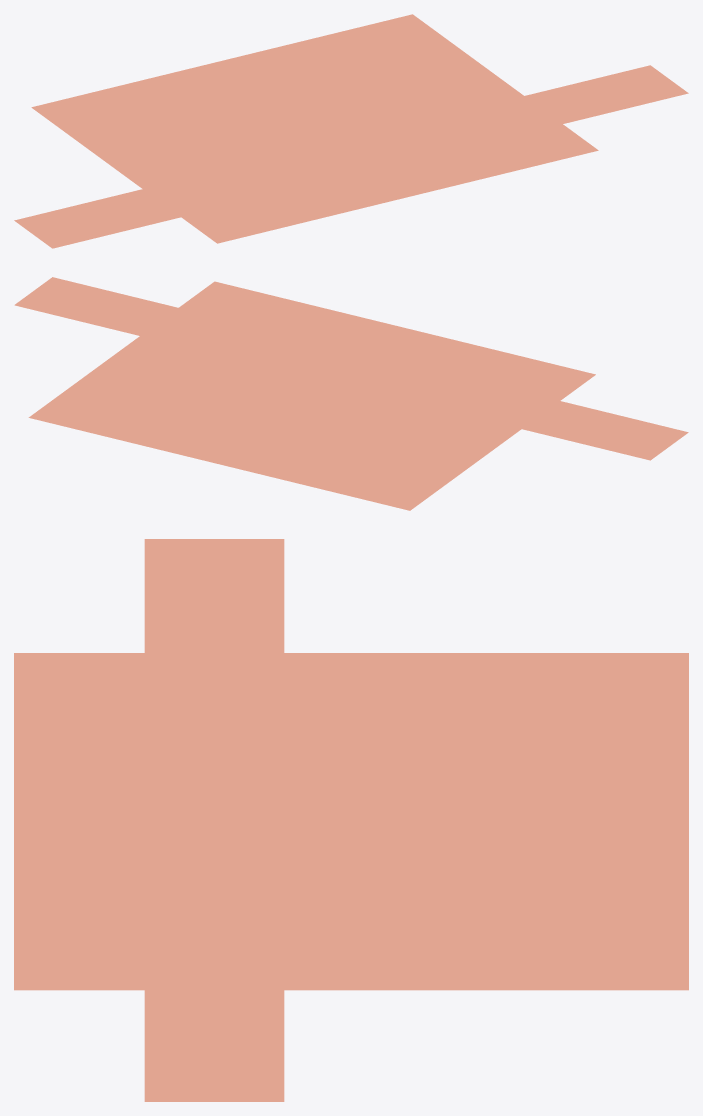
File: Open Dag Map Building Bridge.fbx
3 renders of one model, top to bottom at view 1: azimuth 30°, elevation 25°; view 2: azimuth 150°, elevation 25°; view 3: azimuth 270°, elevation 25°, orthographic. The views are drawn at different scales.
Visible parts, largest first — view 1: Bridge; view 2: Bridge; view 3: Bridge.
Part boxes in pixels (box(x1,y1,x2,y2)): Bridge: box(14, 14, 688, 248); Bridge: box(14, 277, 688, 510); Bridge: box(14, 539, 688, 1101).
Bounding box in the file's own units: 228 × 0 × 116.
